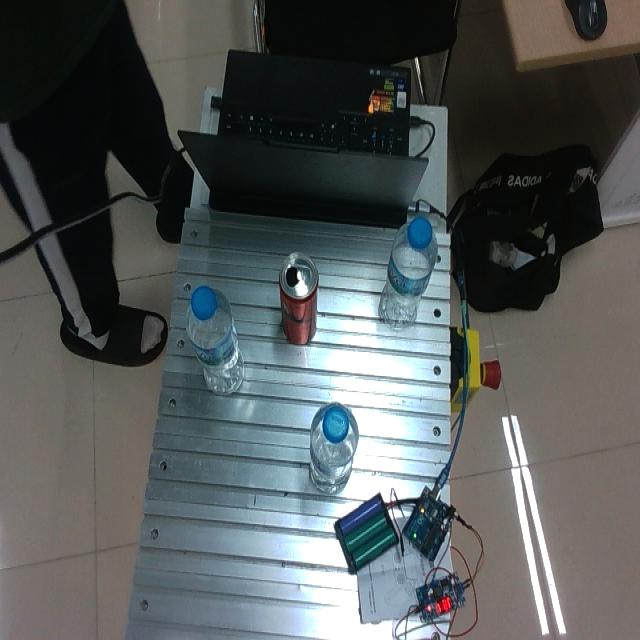coca: (279, 252, 320, 345)
lavie: (379, 216, 438, 329), (186, 285, 246, 396), (309, 403, 359, 493)
